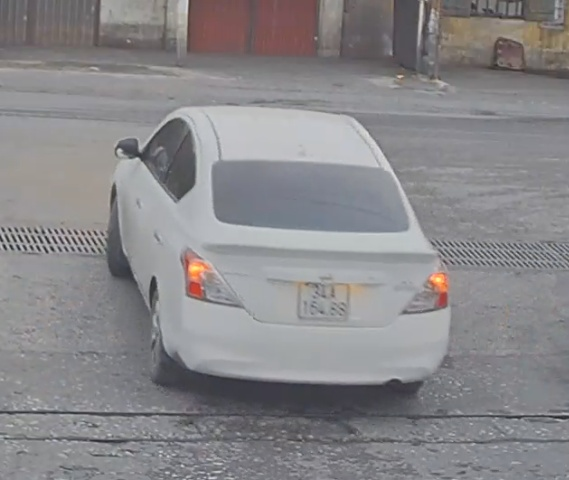vehicle plate: (294, 272, 352, 326)
